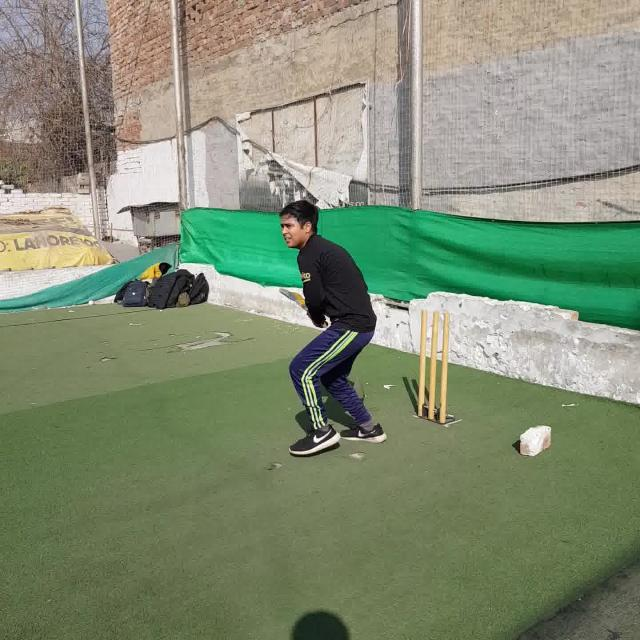bat: (279, 288, 328, 328)
